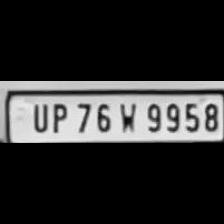5: (179, 99, 199, 133)
6: (92, 100, 114, 134)
7: (70, 99, 92, 133)
8: (200, 100, 220, 132)
9: (141, 100, 163, 132), (162, 99, 180, 133)
P: (48, 100, 70, 134)
U: (27, 100, 49, 134)
W: (115, 99, 139, 133)
